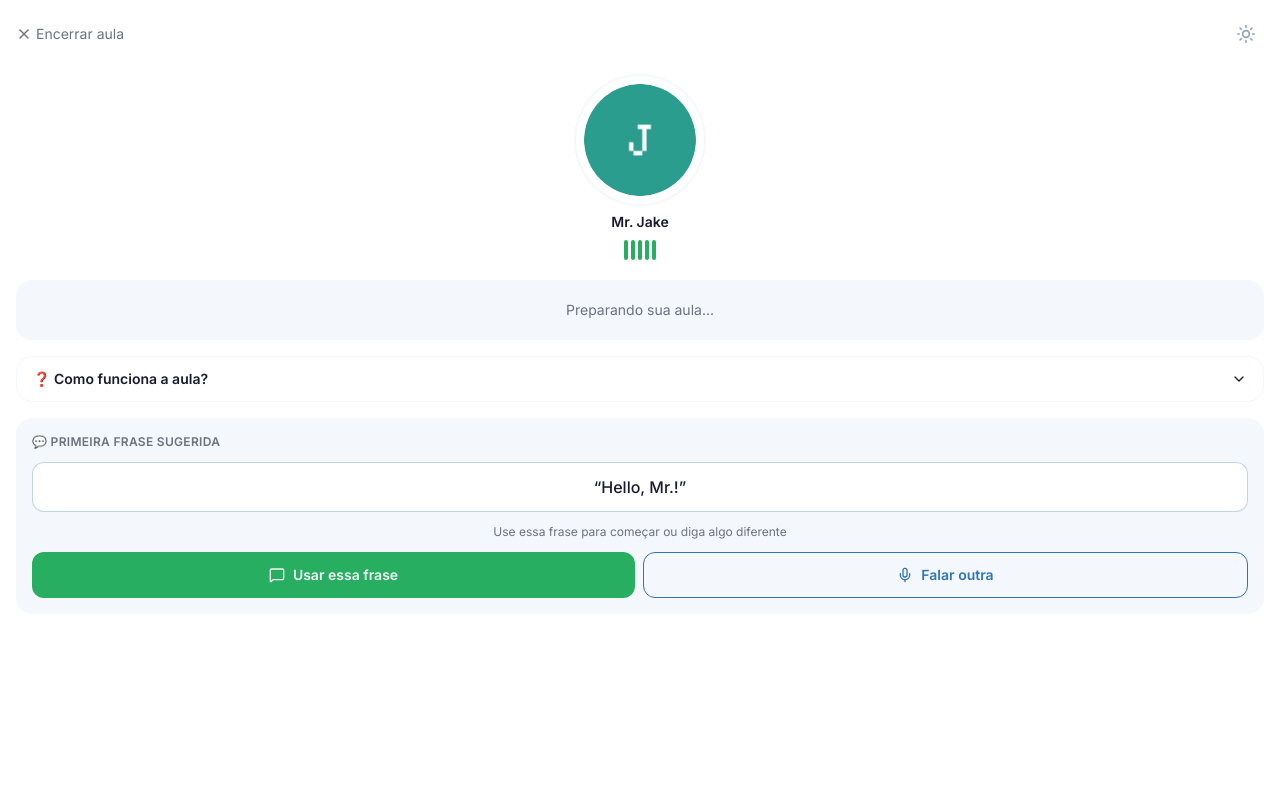
it: AulaClient › shows session report modal after ending session
Click the button "Encerrar aula".
click(70, 34)  # box [16,24,124,44]
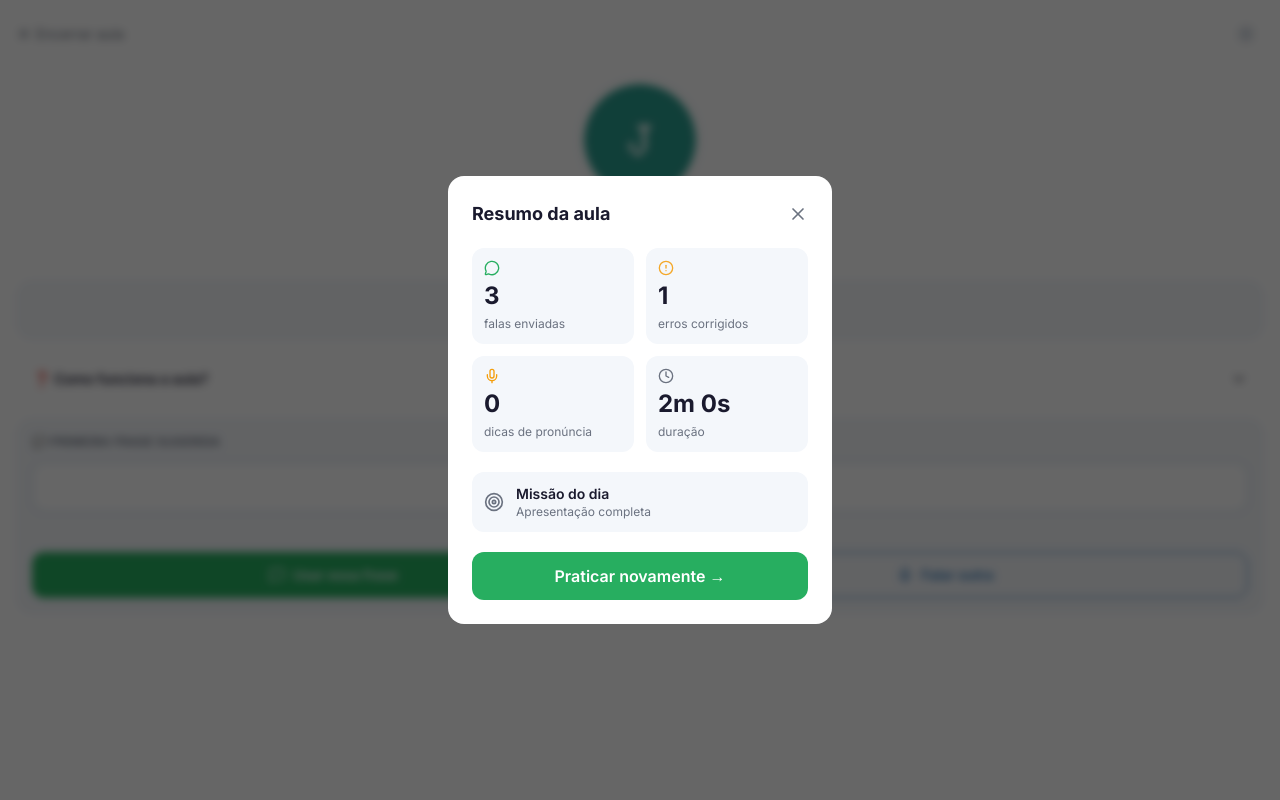
Expected: the heading "Resumo da aula" is shown, [472,200,610,228]
